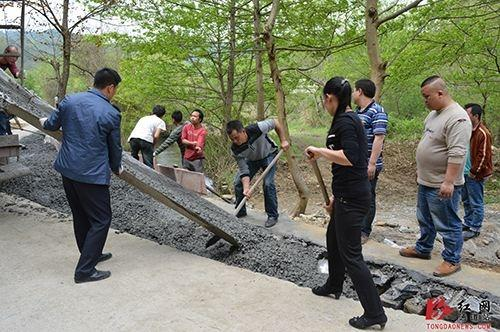not_helmet: (320, 75, 353, 115), (419, 74, 451, 112), (92, 66, 122, 102), (352, 78, 378, 106), (0, 44, 21, 72), (463, 101, 484, 128), (226, 119, 247, 146), (188, 109, 205, 125), (152, 102, 166, 120), (170, 110, 182, 125)
not_reflective: (53, 90, 125, 184), (414, 104, 473, 192), (323, 111, 371, 198), (228, 118, 282, 166), (357, 101, 389, 175), (465, 121, 495, 183), (128, 114, 167, 146), (180, 123, 208, 161), (167, 122, 186, 162)
